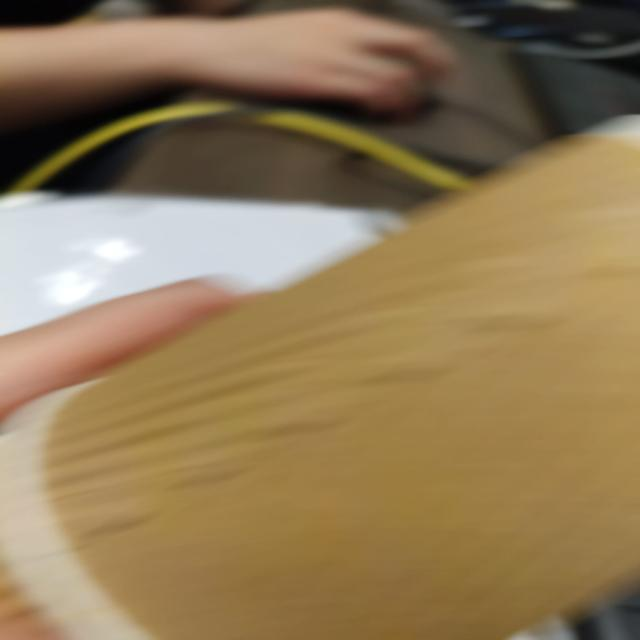Browncup: (0, 137, 640, 640)
